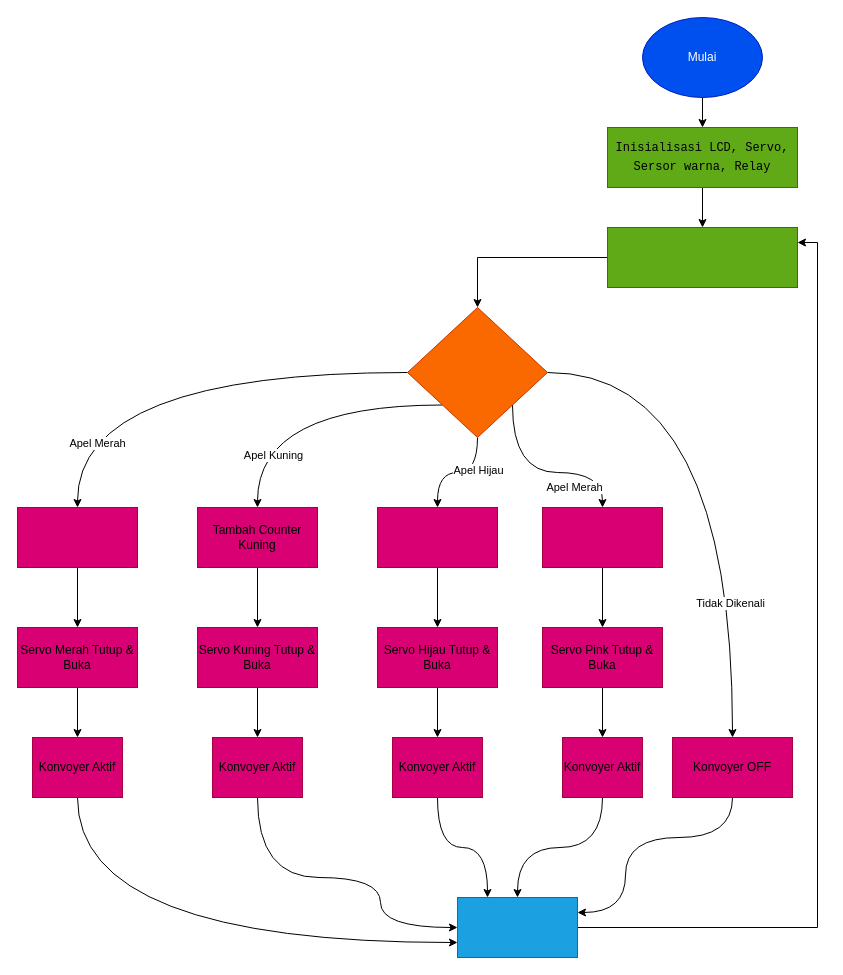
This 843x975 diagram has some shape labels left out. Here are the shapes that lost their labels. From the top down, the box of each, then its label:
(606, 226, 798, 288): Baca Warna RGB dengan TCS3200z
(406, 306, 548, 438): Apakah warna terdeteksi?
(16, 506, 138, 568): Tambah Counter Merah
(376, 506, 498, 568): Tambah Counter Hijau
(542, 506, 662, 568): Tambah Counter Pink
(456, 896, 578, 958): Updaye LCD
